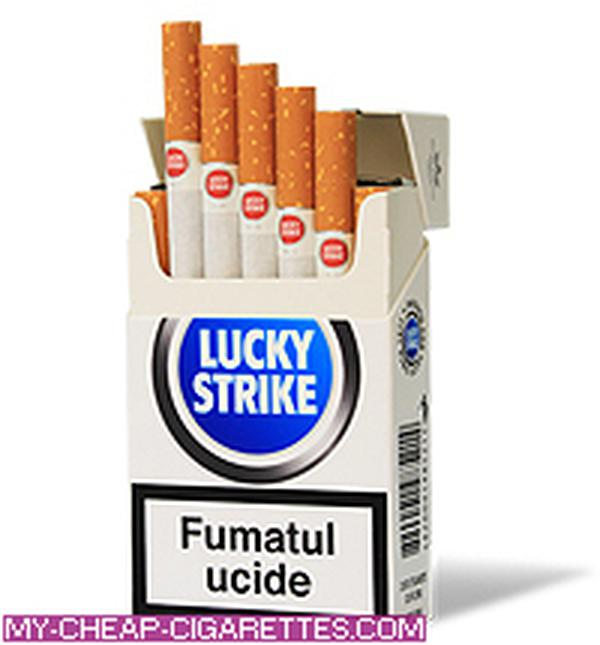lucky_strike_blue: (126, 198, 394, 618)
